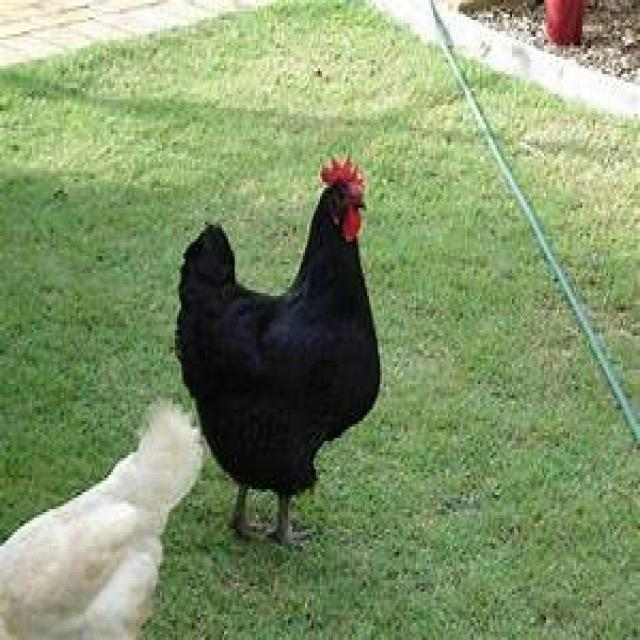hen: (175, 156, 382, 546), (0, 401, 209, 640)
